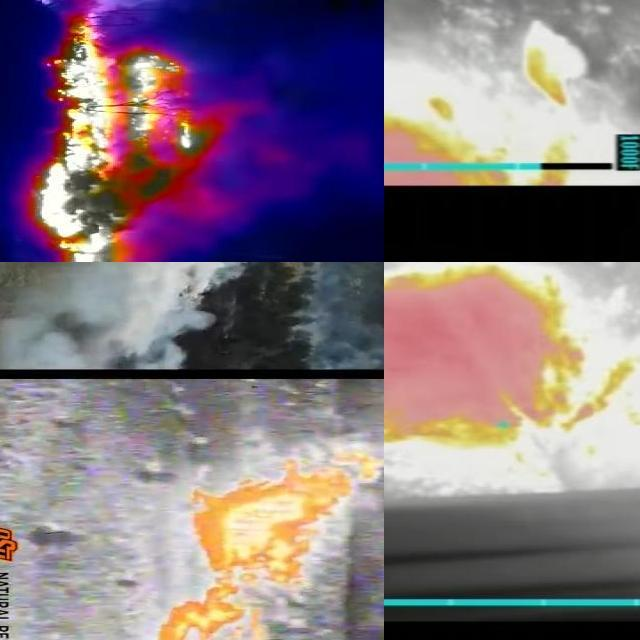fire: (28, 20, 235, 263), (385, 263, 640, 452), (188, 448, 385, 586), (385, 123, 582, 189), (121, 585, 339, 640)
